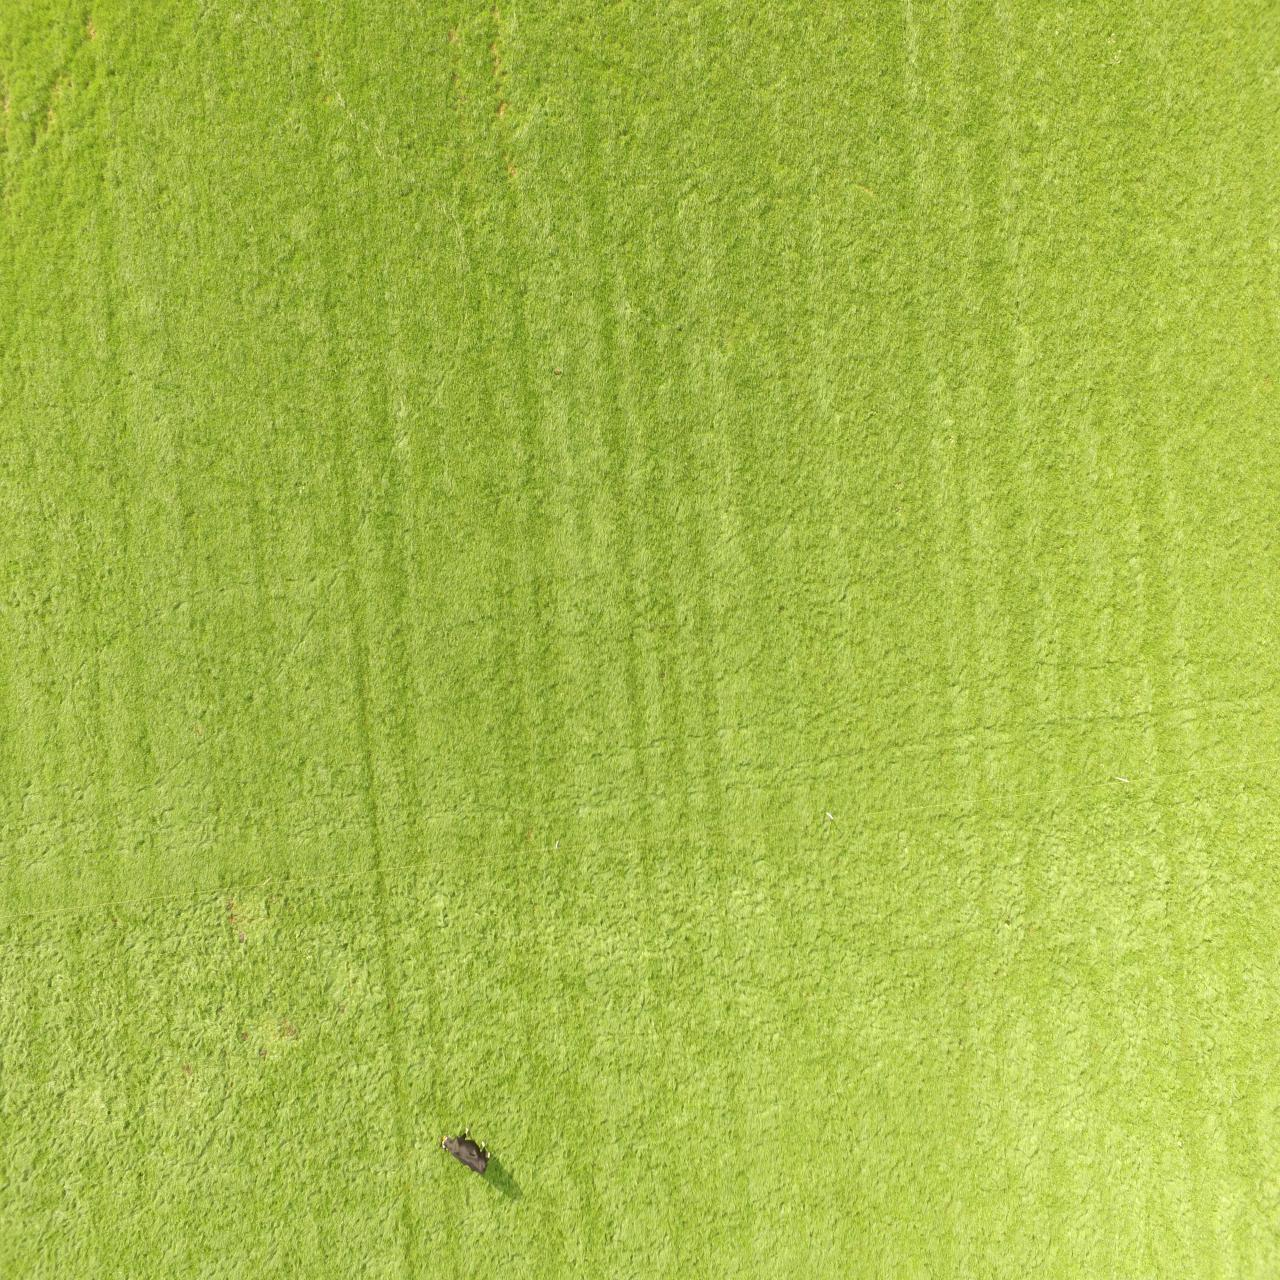cow: (437, 1125, 492, 1180)
